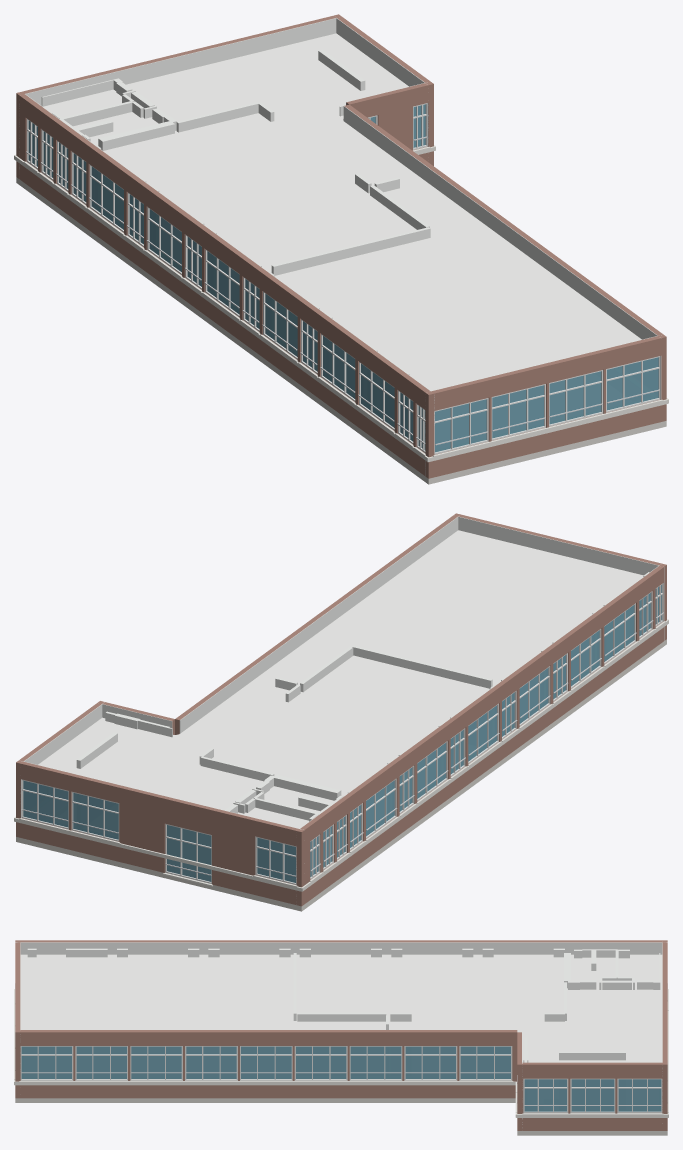
Rendered from info_3F.glb.
3 renders of one model, top to bottom at view 1: azimuth 30°, elevation 25°; view 2: azimuth 150°, elevation 25°; view 3: azimuth 270°, elevation 25°, orthographic. The views are drawn at different scales.
Visible parts, largest first — view 1: info_3F__ceil, info_3F__brick, info_3F__wallIn, info_3F__glass, info_3F__frameW, info_3F__white, info_3F__corrFloor, info_3F__rail; view 2: info_3F__ceil, info_3F__brick, info_3F__wallIn, info_3F__glass, info_3F__frameW, info_3F__white, info_3F__corrFloor, info_3F__rail; view 3: info_3F__ceil, info_3F__brick, info_3F__glass, info_3F__wallIn, info_3F__frameW, info_3F__white, info_3F__corrFloor, info_3F__rail.
Boxes of the visible parts, x1,y1,x2,y2 form: info_3F__ceil: [41, 33, 641, 390]; info_3F__brick: [16, 14, 666, 478]; info_3F__wallIn: [19, 18, 661, 475]; info_3F__glass: [28, 104, 658, 452]; info_3F__frameW: [26, 103, 660, 454]; info_3F__white: [14, 145, 668, 462]; info_3F__corrFloor: [16, 177, 666, 484]; info_3F__rail: [26, 136, 660, 445]; info_3F__ceil: [38, 530, 643, 828]; info_3F__brick: [16, 513, 666, 906]; info_3F__wallIn: [19, 516, 664, 904]; info_3F__glass: [23, 585, 661, 882]; info_3F__frameW: [21, 583, 663, 884]; info_3F__white: [14, 619, 668, 891]; info_3F__corrFloor: [16, 639, 666, 911]; info_3F__rail: [21, 612, 663, 876]; info_3F__ceil: [20, 954, 662, 1062]; info_3F__brick: [15, 940, 667, 1130]; info_3F__glass: [21, 1046, 661, 1111]; info_3F__wallIn: [15, 942, 667, 1127]; info_3F__frameW: [20, 1046, 662, 1113]; info_3F__white: [14, 989, 668, 1117]; info_3F__corrFloor: [15, 1098, 667, 1135]; info_3F__rail: [15, 983, 667, 1105].
Bounding box in the file's own units: 14.64 × 3.85 × 32.24.
